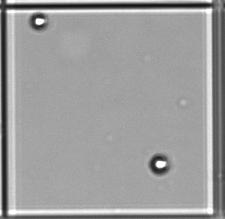Living Cell: (150, 154, 170, 174), (31, 13, 48, 30)
